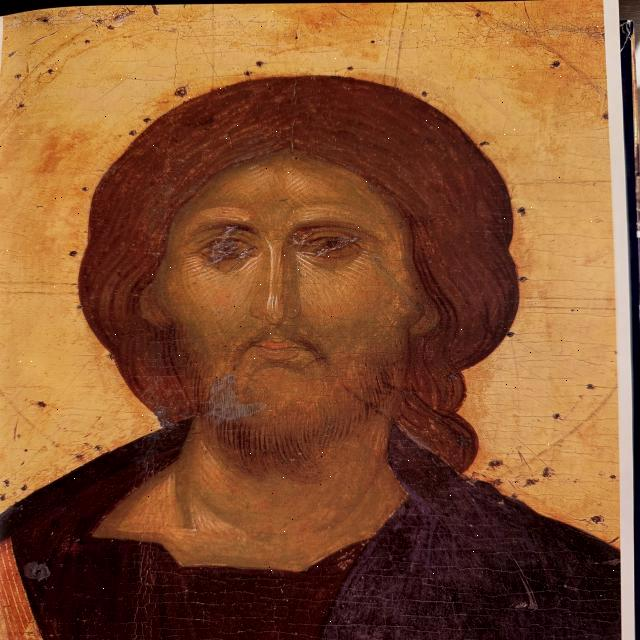christ: (14, 63, 588, 637)
